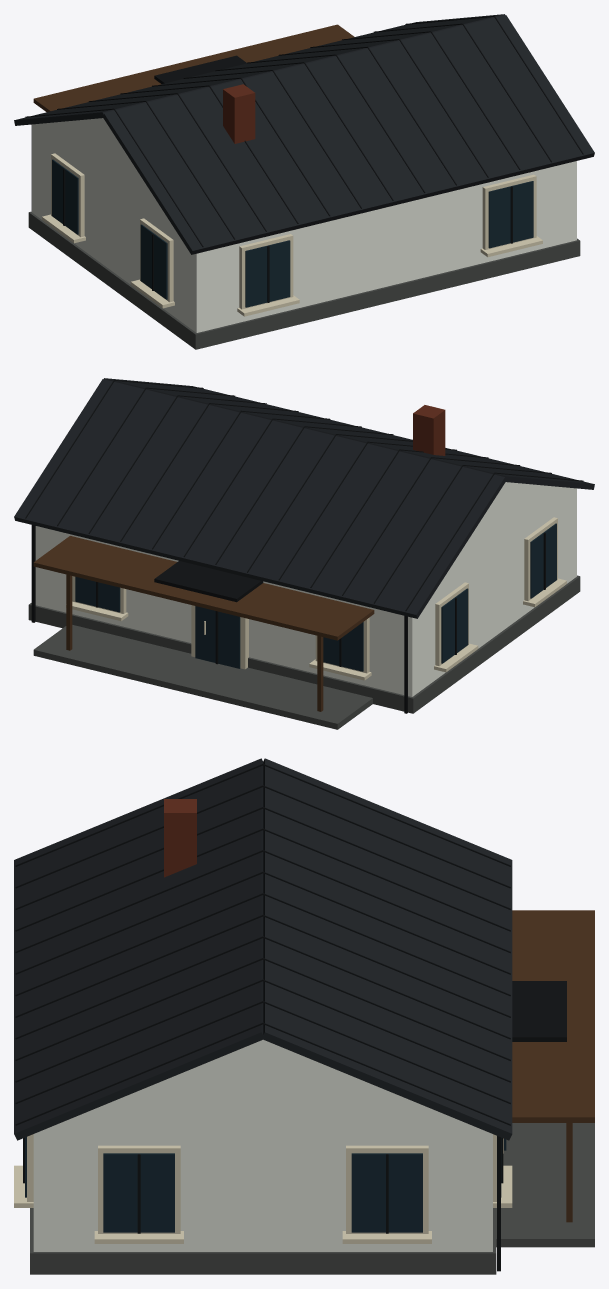
File: 16_WhiteBungalow.obj
The picture shows the model from 3 angles, top to bottom: view 1: azimuth 30°, elevation 25°; view 2: azimuth 150°, elevation 25°; view 3: azimuth 270°, elevation 25°; orthographic projection. The views are drawn at different scales.
Parts seen in each view (by area): view 1: Roof, White, Base, Glass, Metal, Trim, Wood, Brick; view 2: Roof, White, Base, Wood, Metal, Glass, Trim, Brick; view 3: Roof, White, Base, Metal, Wood, Glass, Trim, Brick.
Boxes of the visible parts, x1,y1,x2,y2 form: Roof: (14,14,594,254); White: (32,118,576,332); Base: (28,211,580,349); Glass: (52,159,533,307); Metal: (25,16,583,302); Trim: (42,153,542,316); Wood: (33,24,354,111); Brick: (223,84,255,143); Roof: (14,378,594,618); White: (35,482,576,696); Base: (28,575,580,729); Wood: (33,536,374,711); Metal: (25,380,583,713); Glass: (75,523,556,671); Trim: (66,517,566,680); Brick: (413,405,445,455); Roof: (14,758,512,1140); White: (33,1039,492,1251); Base: (30,1123,594,1274); Metal: (15,764,566,1271); Wood: (512,910,594,1222); Glass: (25,1137,506,1232); Trim: (14,1134,512,1243); Brick: (164,799,196,877).
Size of the model in its own units: 12.76 by 5.9 by 11.38.
